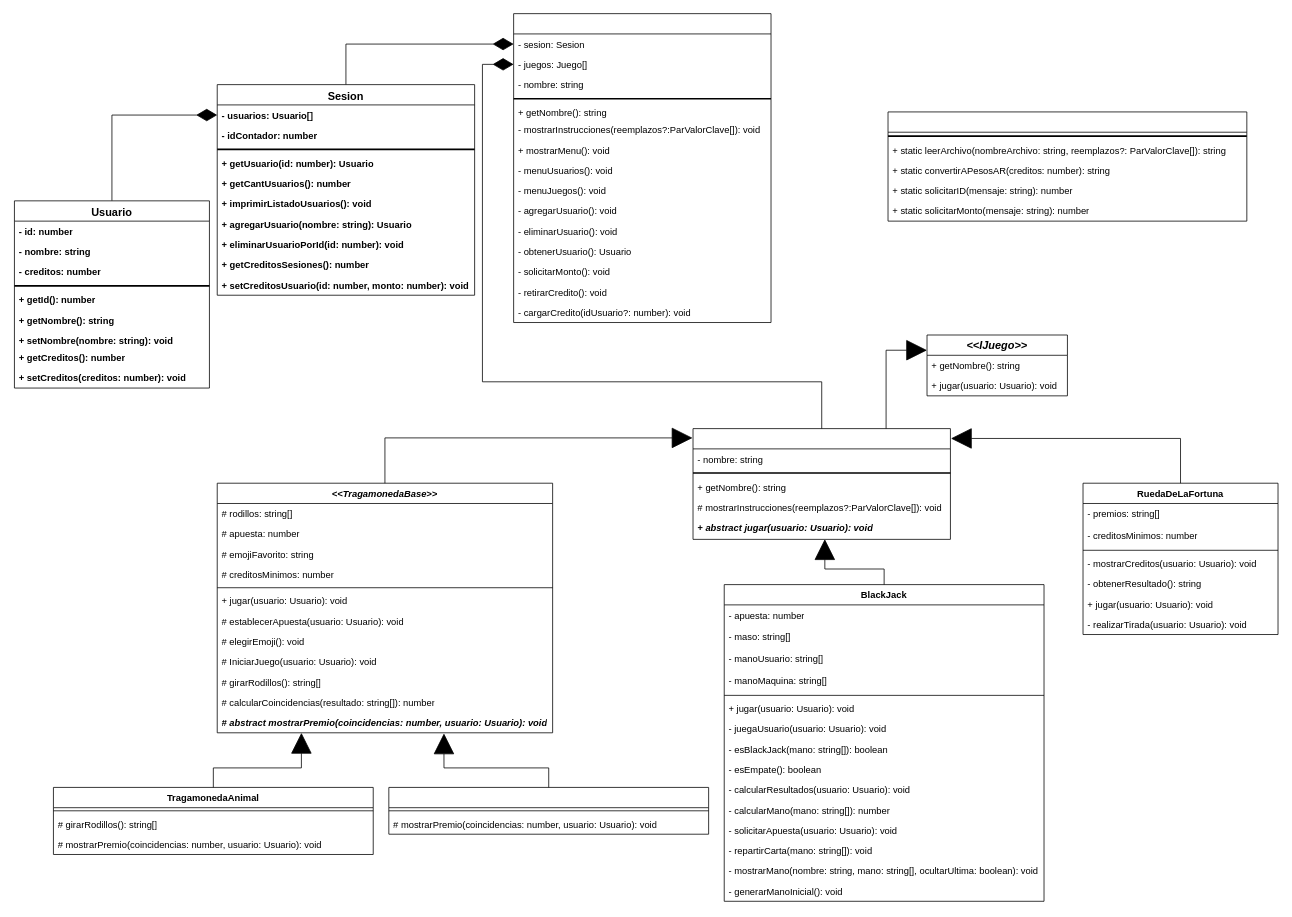
Image size: 1292x917. Some labels were removed from this diagram. The box of each missing label's shape, as (x1, y1, x2, y2) in pixels:
<<Juego>>: (692, 428, 950, 539)
Casino: (513, 13, 771, 323)
TragamonedaFrutal: (388, 787, 709, 834)
Utils: (887, 111, 1247, 221)
